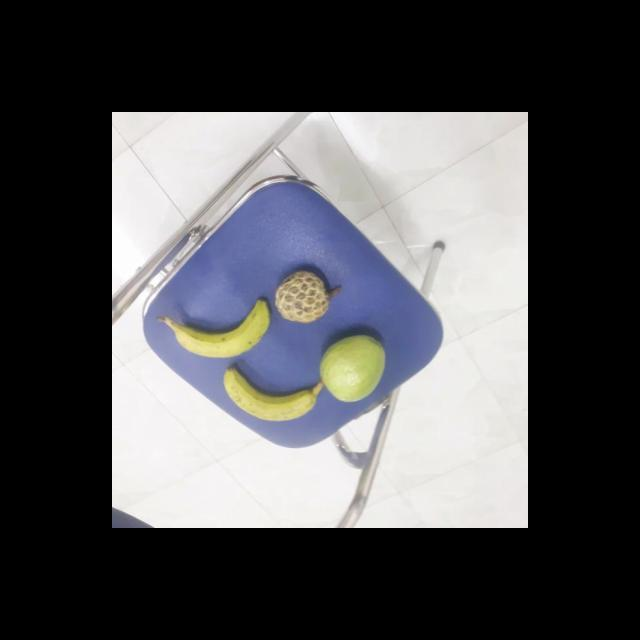Sakya fruit: (274, 270, 340, 324)
banana: (175, 296, 276, 358), (224, 360, 324, 420)
